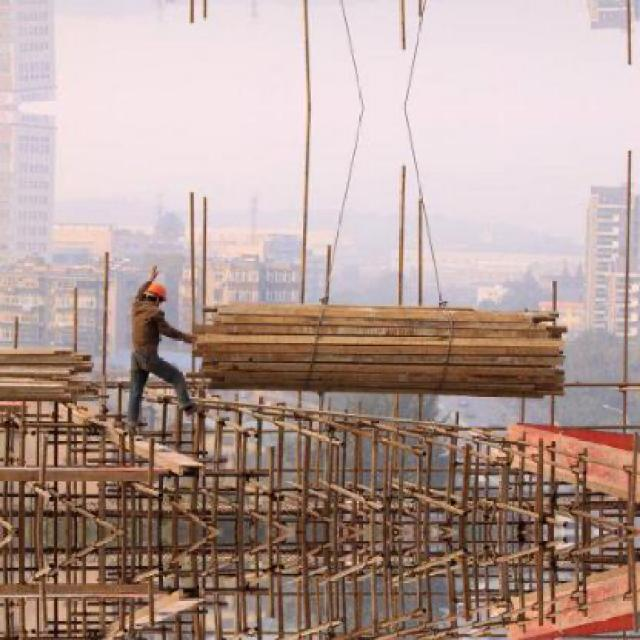helmet: (142, 280, 169, 305)
